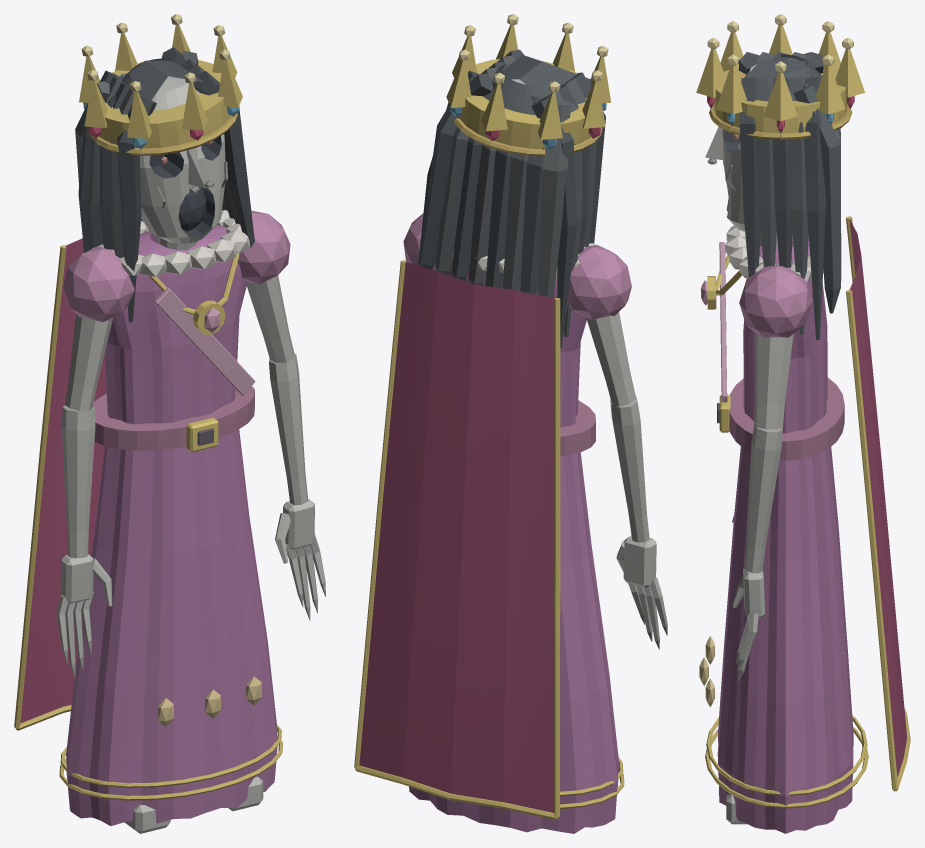
The model's file is SlendrinaPrincess.glb.
The picture shows the model from 3 angles, left to right: view 1: azimuth 30°, elevation 25°; view 2: azimuth 150°, elevation 25°; view 3: azimuth 270°, elevation 25°; orthographic projection.
Parts seen in each view (by area): view 1: Body, Head, ArmR, ArmL, LegR; view 2: Body, Head, ArmR, ArmL; view 3: Body, Head, ArmL.
Part boxes in pixels (x1=…): Body: x1=14, y1=210, x2=282, y2=825; Head: x1=75, y1=14, x2=254, y2=322; ArmR: x1=56, y1=246, x2=134, y2=677; ArmL: x1=238, y1=210, x2=325, y2=620; LegR: x1=124, y1=805, x2=170, y2=833; Body: x1=354, y1=243, x2=624, y2=833; Head: x1=418, y1=14, x2=611, y2=347; ArmR: x1=567, y1=245, x2=667, y2=649; ArmL: x1=403, y1=213, x2=435, y2=270; Body: x1=699, y1=216, x2=910, y2=833; Head: x1=696, y1=14, x2=864, y2=339; ArmL: x1=732, y1=265, x2=812, y2=683.
Bounding box in the file's own units: 2.44 × 6.8 × 1.75.
